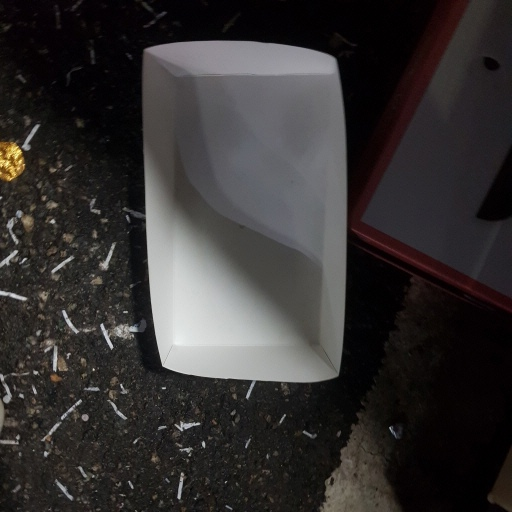Paper_0: (127, 32, 372, 410)
